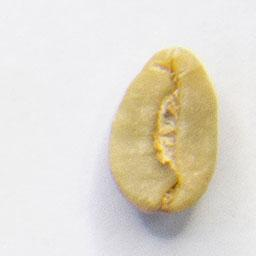longberry: (103, 44, 222, 219)
